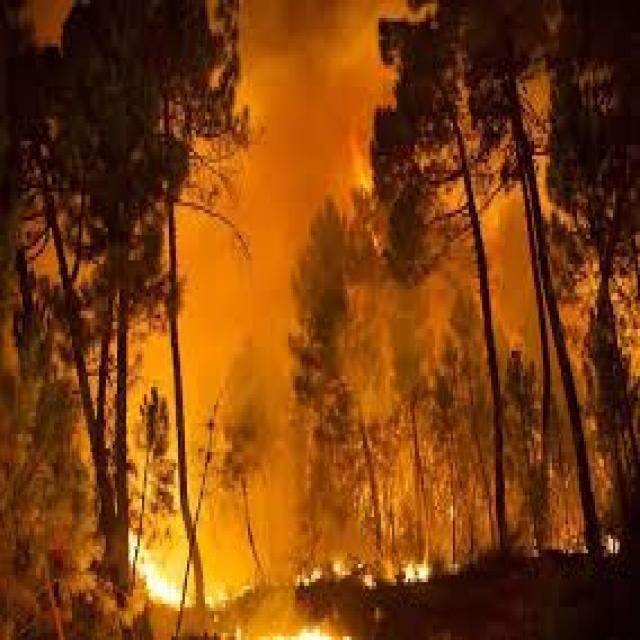Fire: (0, 0, 616, 595), (131, 513, 235, 617)
Smoke: (372, 269, 490, 372)
